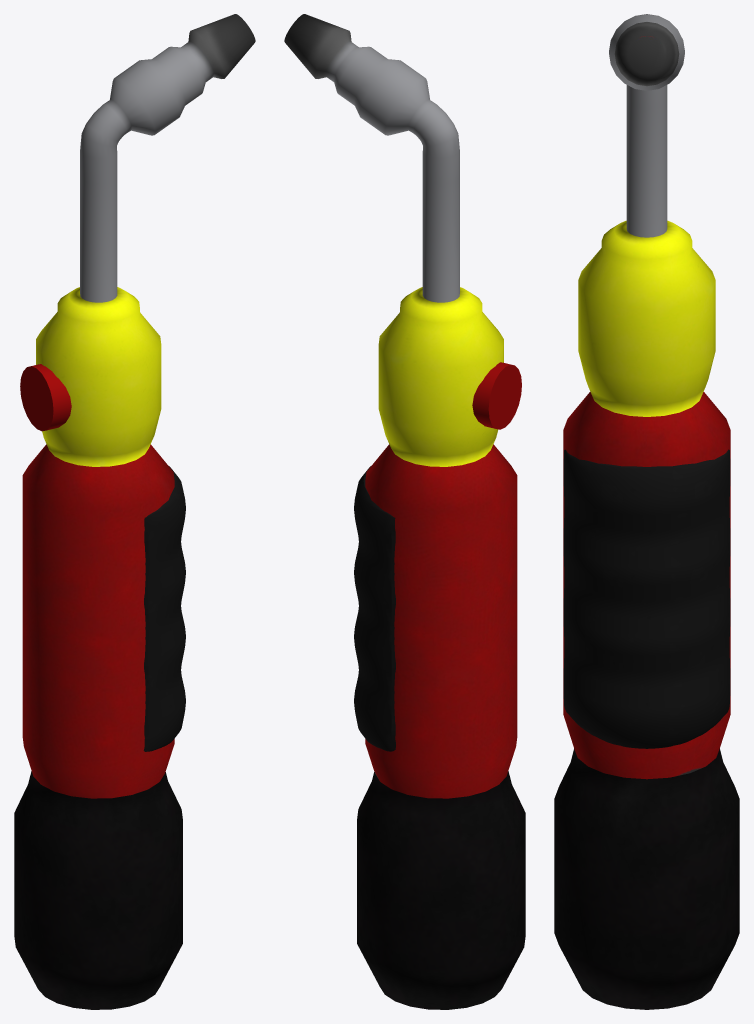
File: welder_model.glb
3 renders of one model, left to right at view 1: azimuth 30°, elevation 25°; view 2: azimuth 150°, elevation 25°; view 3: azimuth 270°, elevation 25°, orthographic. The views are drawn at different scales.
Visible parts, largest first — view 1: pasted__pCylinder1, pasted__pCylinder2, pasted__pCylinder3; view 2: pasted__pCylinder1, pasted__pCylinder2, pasted__pCylinder3; view 3: pasted__pCylinder1, pasted__pCylinder2.
Part boxes in pixels (x1,y1,x2,y2): pasted__pCylinder1: (14, 14, 255, 1009); pasted__pCylinder2: (143, 466, 185, 751); pasted__pCylinder3: (20, 364, 71, 431); pasted__pCylinder1: (284, 14, 525, 1009); pasted__pCylinder2: (354, 466, 395, 751); pasted__pCylinder3: (472, 362, 521, 429); pasted__pCylinder1: (554, 14, 739, 1009); pasted__pCylinder2: (563, 449, 730, 748).
Bounding box in the file's own units: 0.5058 × 2 × 0.329.
3 materials, 3 textured.
